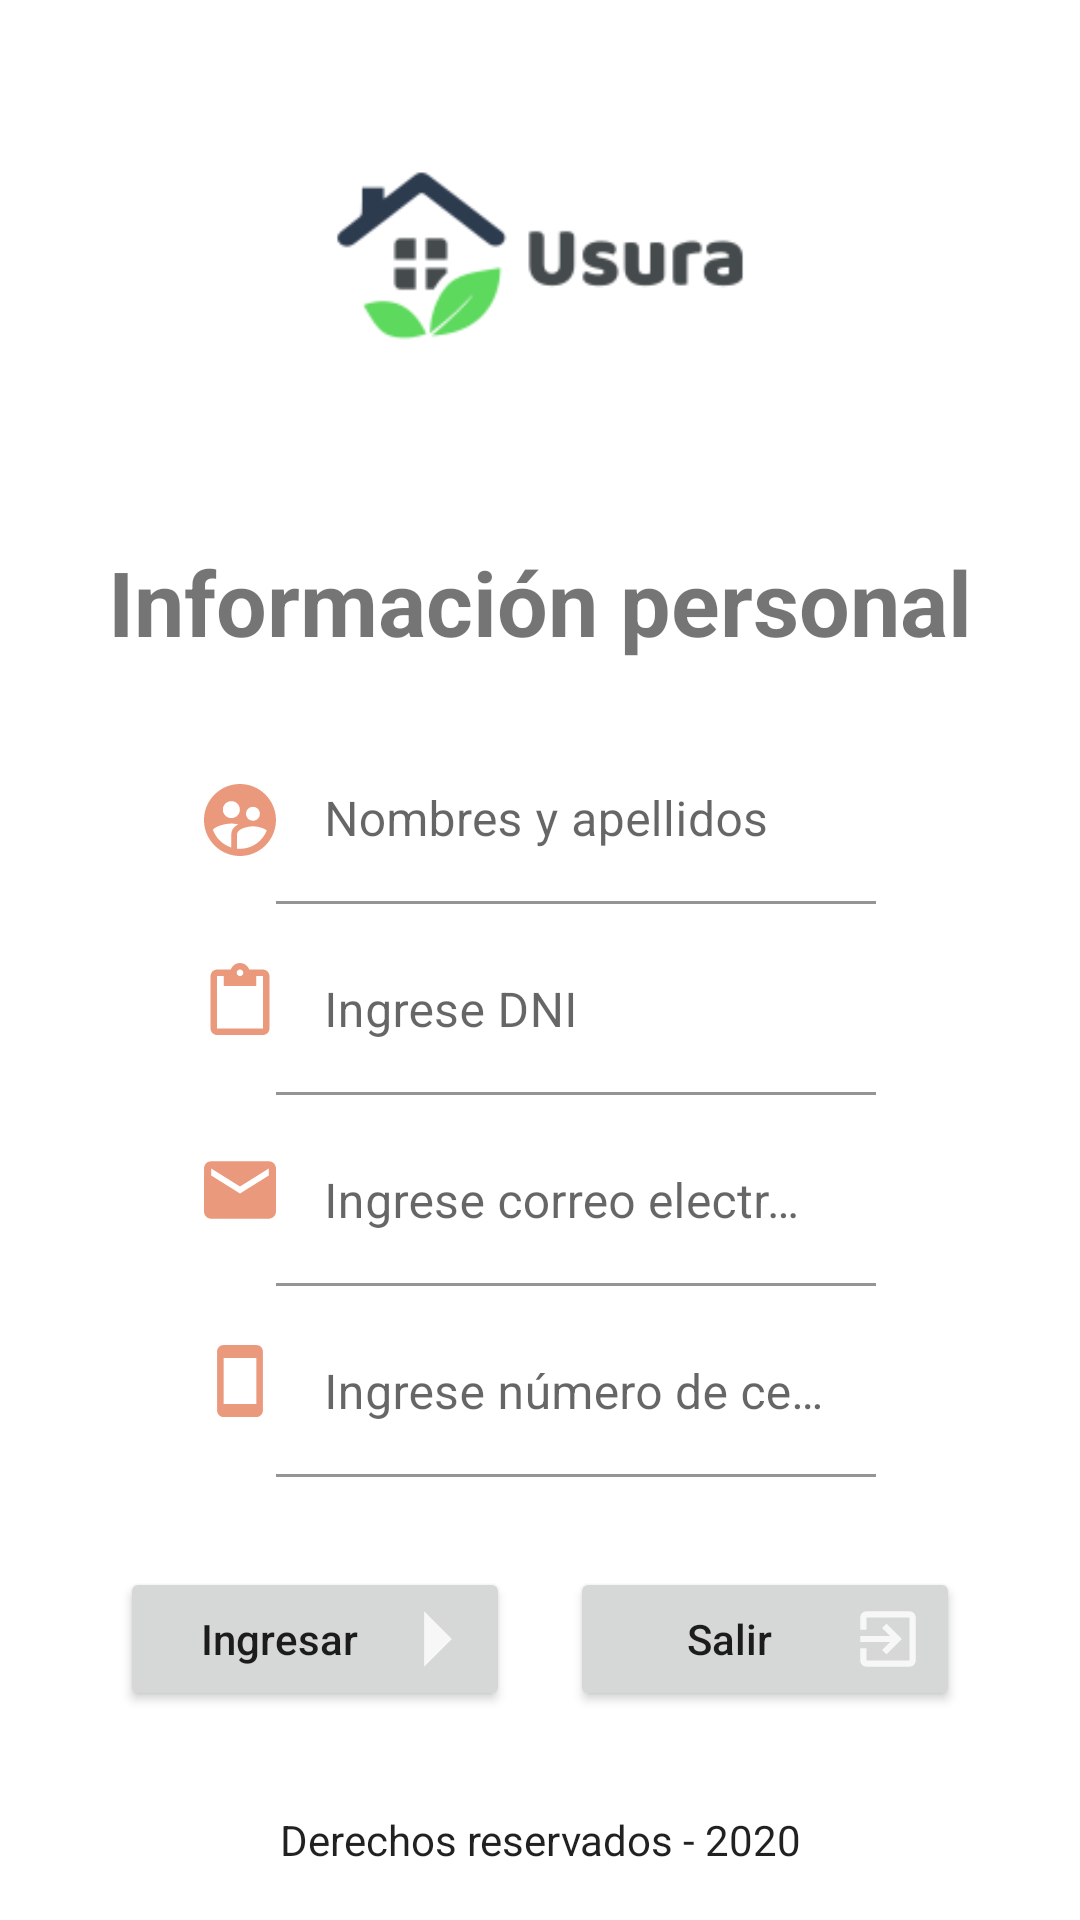

Where to tap for icons on this 1080*1920 app screen, as (x=x, y=y):
phone: (x=240, y=1381)
user: (x=240, y=820)
